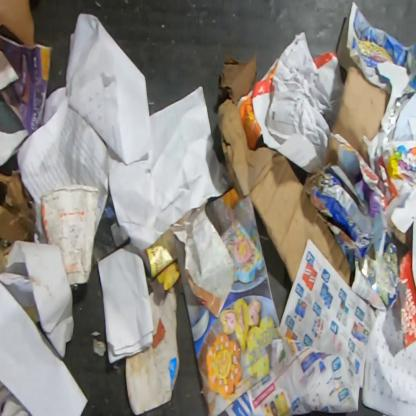cardboard: (218, 98, 352, 288), (301, 161, 376, 272), (40, 184, 100, 285), (331, 65, 390, 167), (0, 171, 39, 274)
